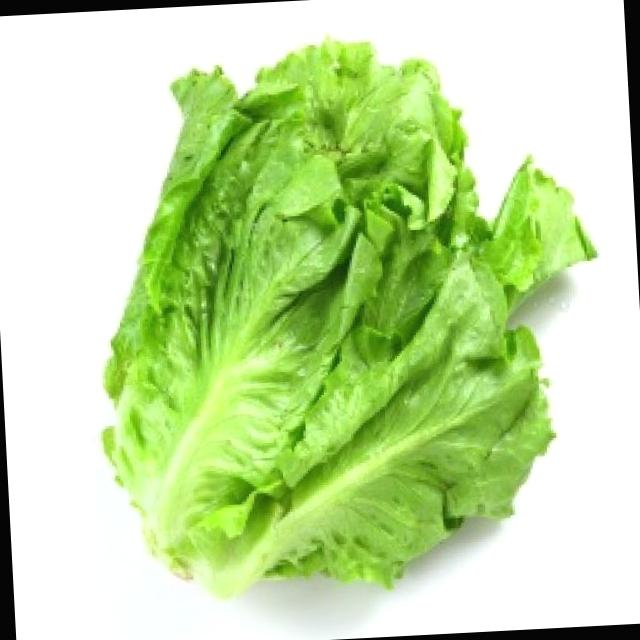Lettuce-Ready-to-Harvest: (103, 43, 593, 596)
